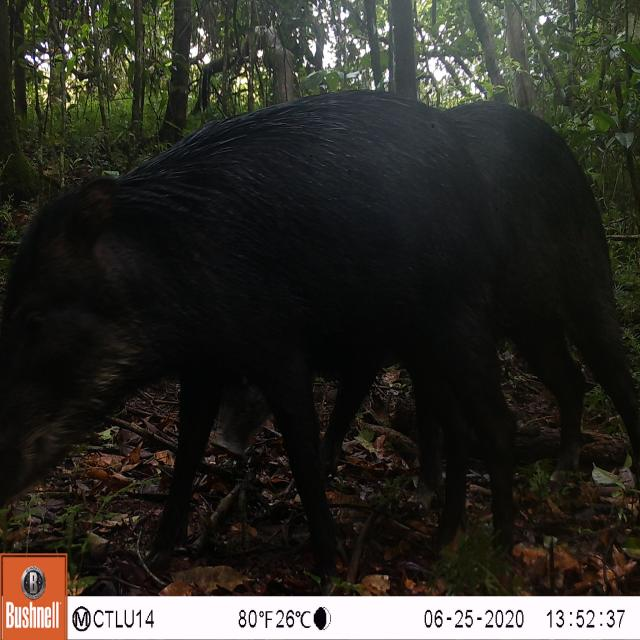White-lipped Peccary: (0, 84, 524, 566), (433, 94, 640, 499)
